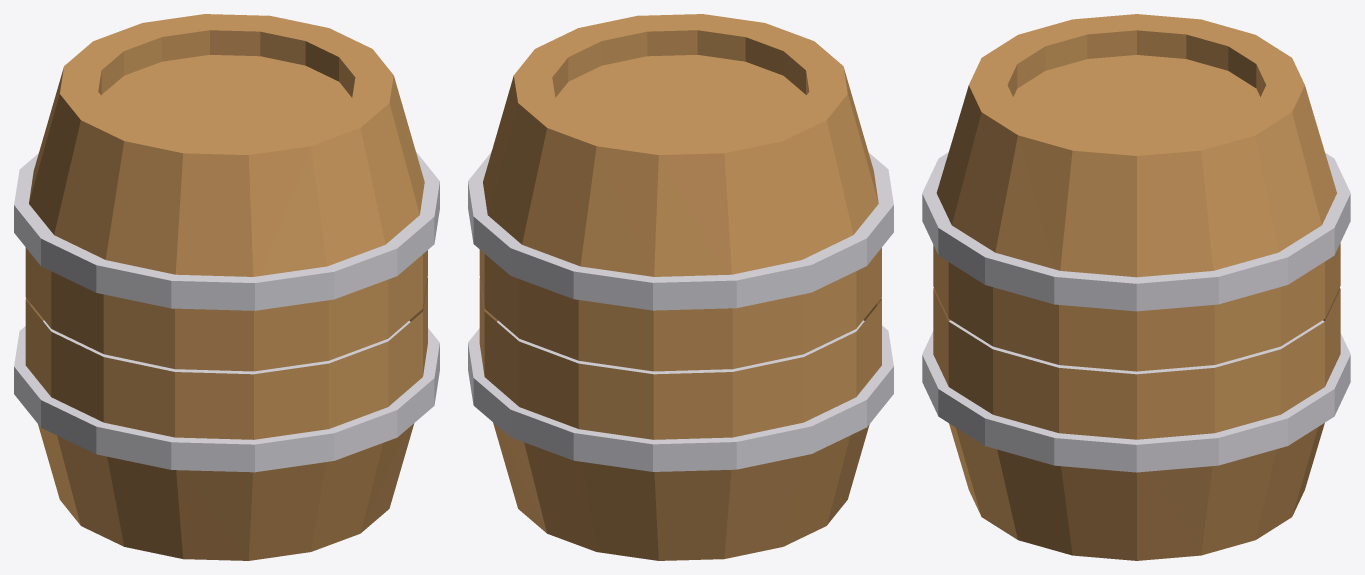
File: Barrel.dae
3 views of the same model, side by side, from view 1: azimuth 30°, elevation 25°; view 2: azimuth 150°, elevation 25°; view 3: azimuth 270°, elevation 25° (orthographic).
Visible parts, largest first — view 1: Barrel; view 2: Barrel; view 3: Barrel.
Boxes of the visible parts, x1,y1,x2,y2 form: Barrel: [14, 14, 439, 560]; Barrel: [468, 14, 893, 560]; Barrel: [922, 14, 1350, 560].
Size of the model in its own units: 2.55 by 2.55 by 2.66.
